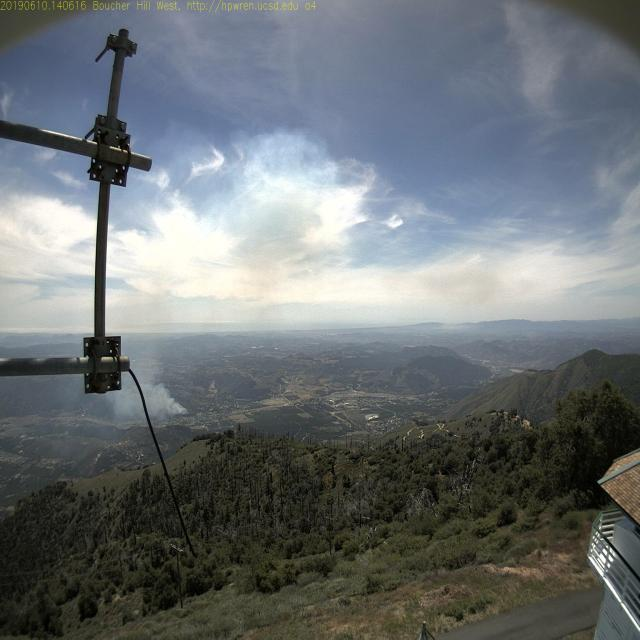smoke: (174, 392, 199, 427)
